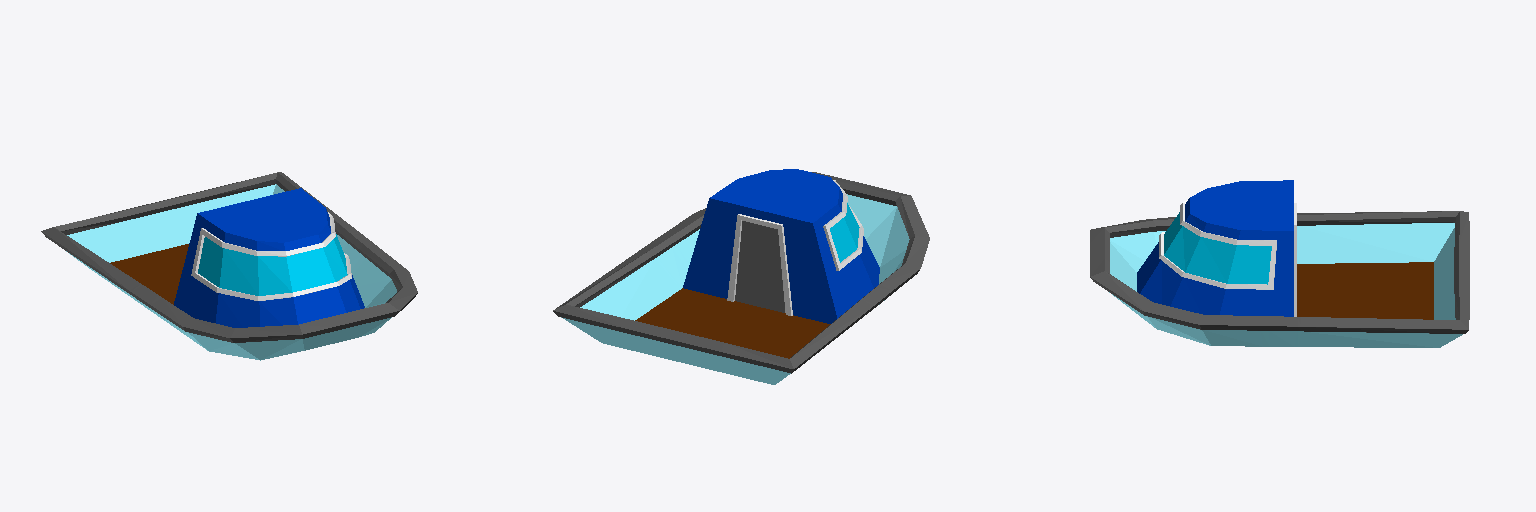
The picture shows the model from 3 angles: view 1: azimuth 30°, elevation 25°; view 2: azimuth 150°, elevation 25°; view 3: azimuth 270°, elevation 25°; orthographic projection.
Visible parts, largest first — view 1: Plane; view 2: Plane; view 3: Plane.
Boxes of the visible parts, x1,y1,x2,y2 form: Plane: [41, 172, 417, 360]; Plane: [553, 169, 929, 384]; Plane: [1090, 180, 1469, 347].
Size of the model in its own units: 3.89 by 1.55 by 5.32.
1 materials, 1 textured.